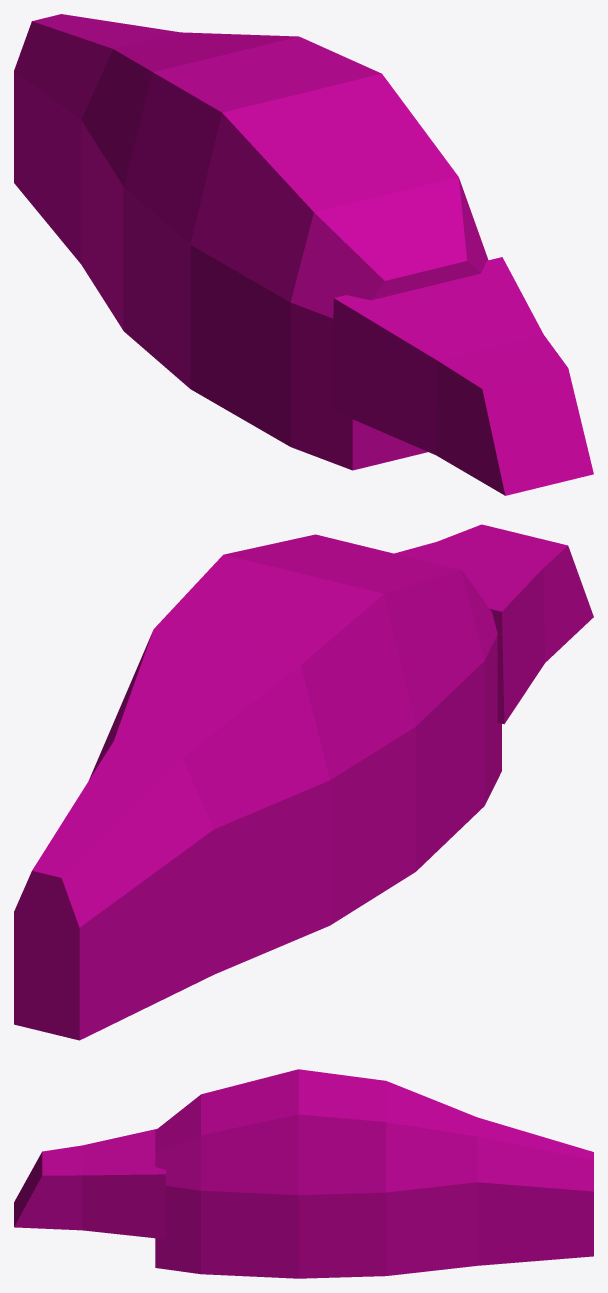
Rendered from SM_Veh_Prototype_01_Collision.fbx.
3 renders of one model, top to bottom at view 1: azimuth 30°, elevation 25°; view 2: azimuth 150°, elevation 25°; view 3: azimuth 270°, elevation 25°, orthographic. The views are drawn at different scales.
Parts seen in each view (by area): view 1: SM_Veh_Prototype_01_Collision; view 2: SM_Veh_Prototype_01_Collision; view 3: SM_Veh_Prototype_01_Collision.
Boxes of the visible parts, box(x1,y1,x2,y2) form: SM_Veh_Prototype_01_Collision: box(14, 14, 593, 495); SM_Veh_Prototype_01_Collision: box(14, 524, 593, 1040); SM_Veh_Prototype_01_Collision: box(14, 1069, 593, 1278).
Bounding box in the file's own units: 126 × 145 × 490.
